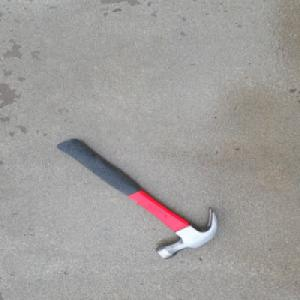Hammer: (52, 137, 220, 269)
